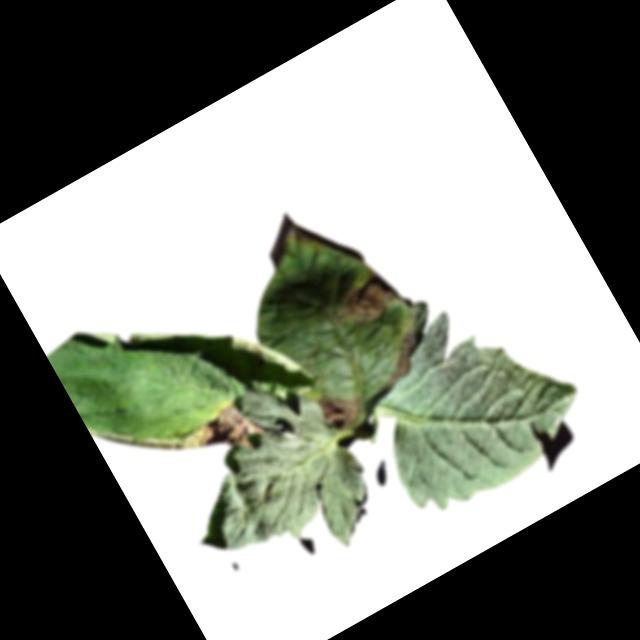Late_blight: (171, 391, 272, 480), (325, 263, 406, 335), (371, 330, 428, 385), (315, 381, 368, 436), (275, 216, 325, 264)
